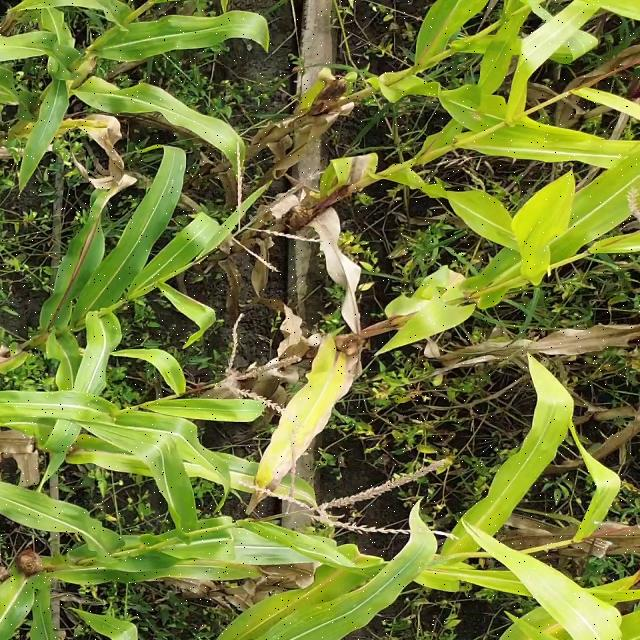northern-leaf-blight: (249, 354, 344, 498)
southern-leaf-blight: (306, 584, 386, 639), (255, 527, 337, 564)
